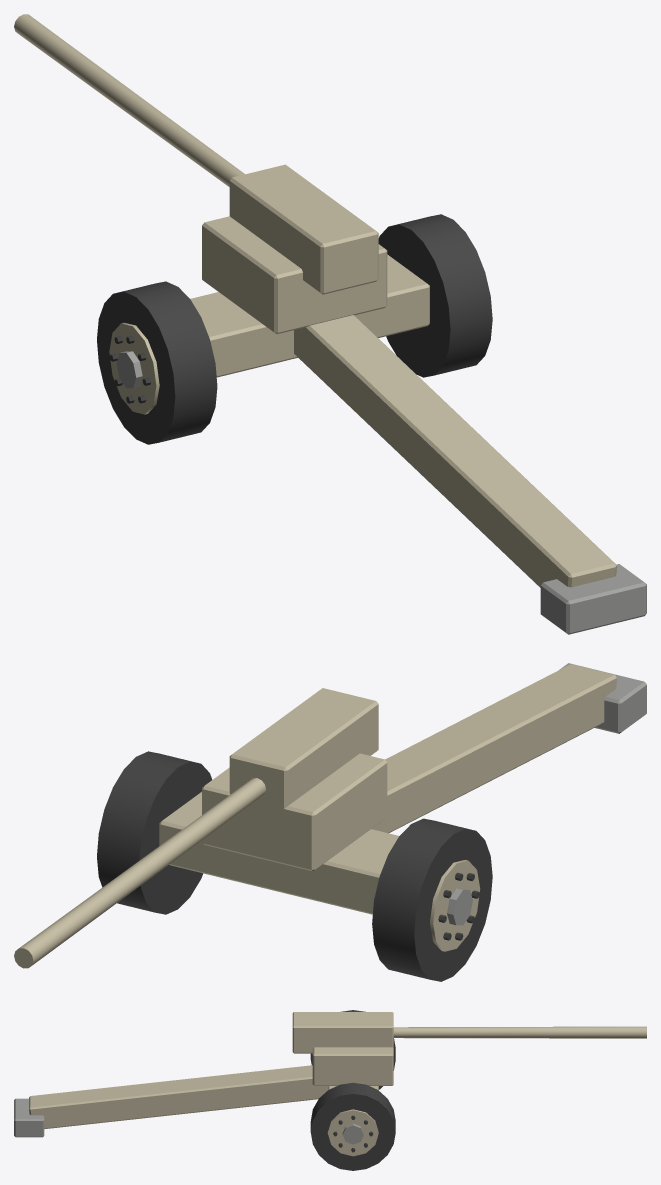
Rendered from rus_mor_vasil.glb.
The picture shows the model from 3 angles, top to bottom: view 1: azimuth 30°, elevation 25°; view 2: azimuth 150°, elevation 25°; view 3: azimuth 270°, elevation 25°; orthographic projection. The views are drawn at different scales.
Parts seen in each view (by area): view 1: body, barrel, wheel_0, wheel_1, turret; view 2: body, barrel, wheel_0, turret, wheel_1; view 3: body, barrel, wheel_1, turret.
Boxes of the visible parts, <box> form: body: <box>190,254,646,634</box>; barrel: <box>14,14,378,294</box>; wheel_0: <box>97,281,217,444</box>; wheel_1: <box>378,214,492,377</box>; turret: <box>202,216,387,334</box>; body: <box>159,663,646,914</box>; barrel: <box>14,688,378,968</box>; wheel_0: <box>372,818,492,981</box>; turret: <box>202,753,387,871</box>; wheel_1: <box>97,751,212,914</box>; body: <box>14,1065,378,1137</box>; barrel: <box>292,1012,646,1053</box>; wheel_1: <box>310,1082,395,1170</box>; turret: <box>312,1047,393,1085</box>.
Bounding box in the file's own units: 2.08 × 1.2 × 6.25.
